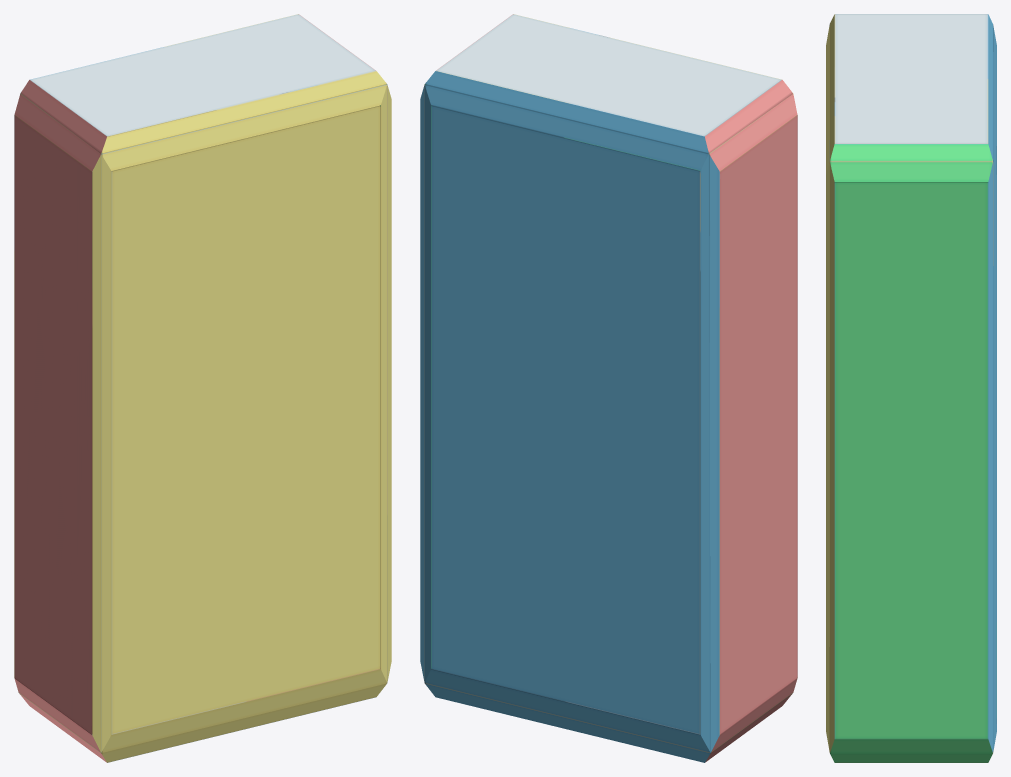
File: roundedflatcuboid_buildingblock_village.obj
3 renders of one model, left to right at view 1: azimuth 30°, elevation 25°; view 2: azimuth 150°, elevation 25°; view 3: azimuth 270°, elevation 25°, orthographic.
Parts seen in each view (by area): view 1: cube; view 2: cube; view 3: cube.
Boxes of the visible parts, <box> form: cube: <box>14,14,391,762</box>; cube: <box>420,14,797,762</box>; cube: <box>826,14,996,762</box>.
Size of the model in its own units: 1 by 2 by 0.5.
